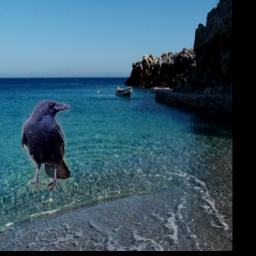Crow: (22, 101, 70, 191)
